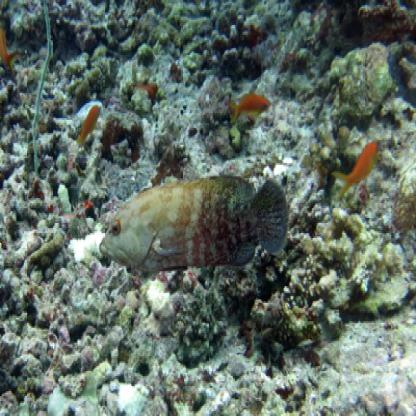Serranidae -Groupers-: (97, 171, 291, 277)
